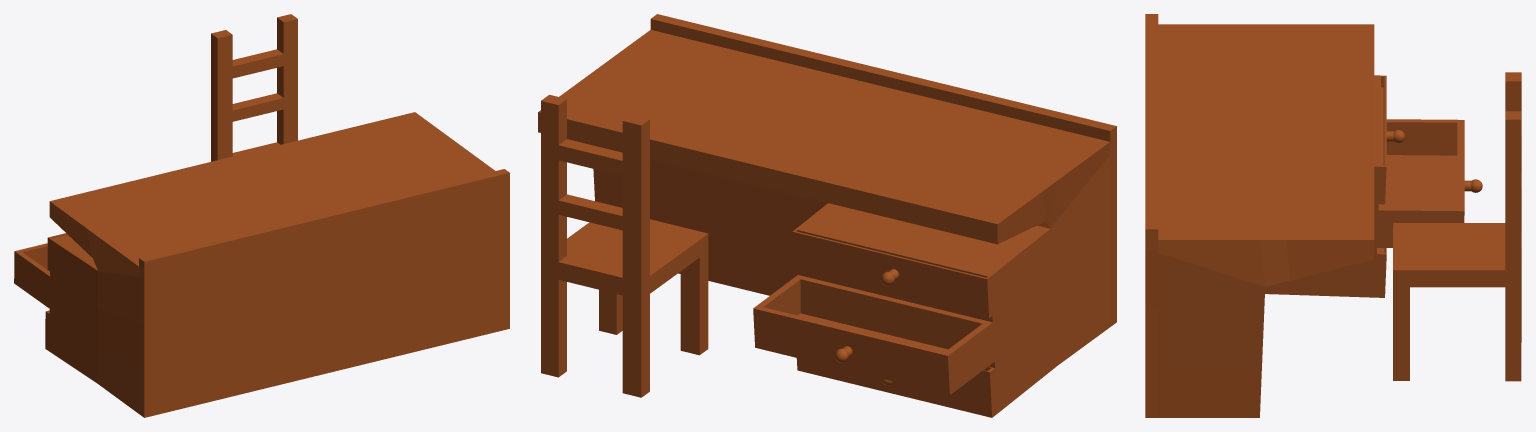
Rendered from Desk.glb.
3 views of the same model, side by side, from view 1: azimuth 30°, elevation 25°; view 2: azimuth 150°, elevation 25°; view 3: azimuth 270°, elevation 25° (orthographic). The views are drawn at different scales.
Visible parts, largest first — view 1: Desk; view 2: Desk; view 3: Desk.
Part boxes in pixels (x1,y1,x2,y2): Desk: (14, 14, 509, 417); Desk: (538, 14, 1116, 417); Desk: (1145, 14, 1521, 417).
Bounding box in the file's own units: 8.55 × 4.87 × 6.25.
